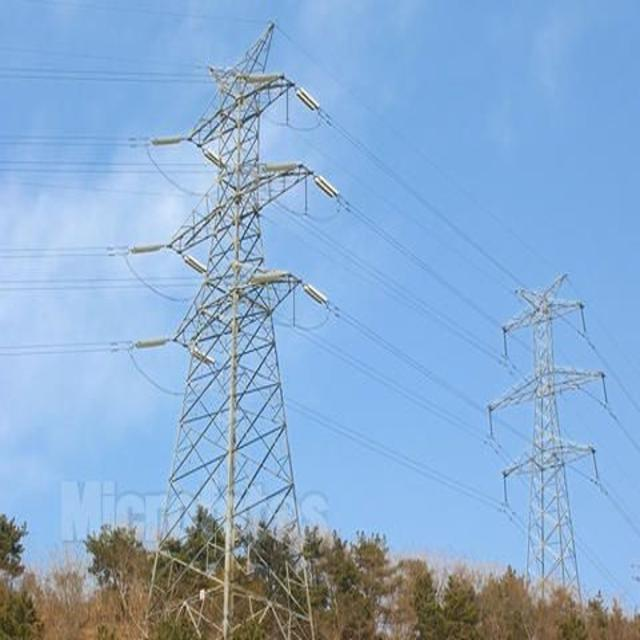non-critical vegetation: (166, 55, 358, 622), (480, 272, 594, 616)
